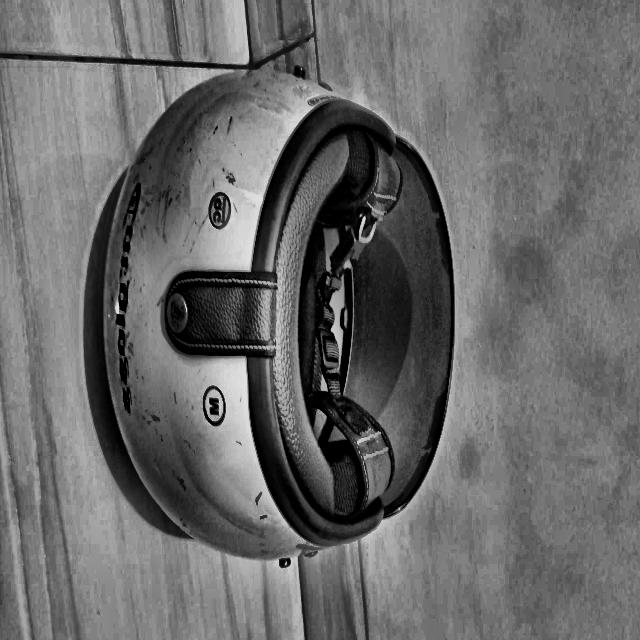Helmet: (304, 306, 604, 640)
